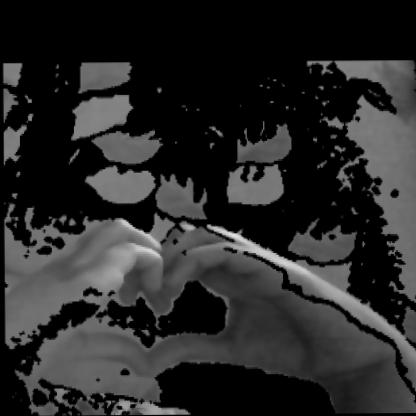heart: (63, 199, 261, 403)
